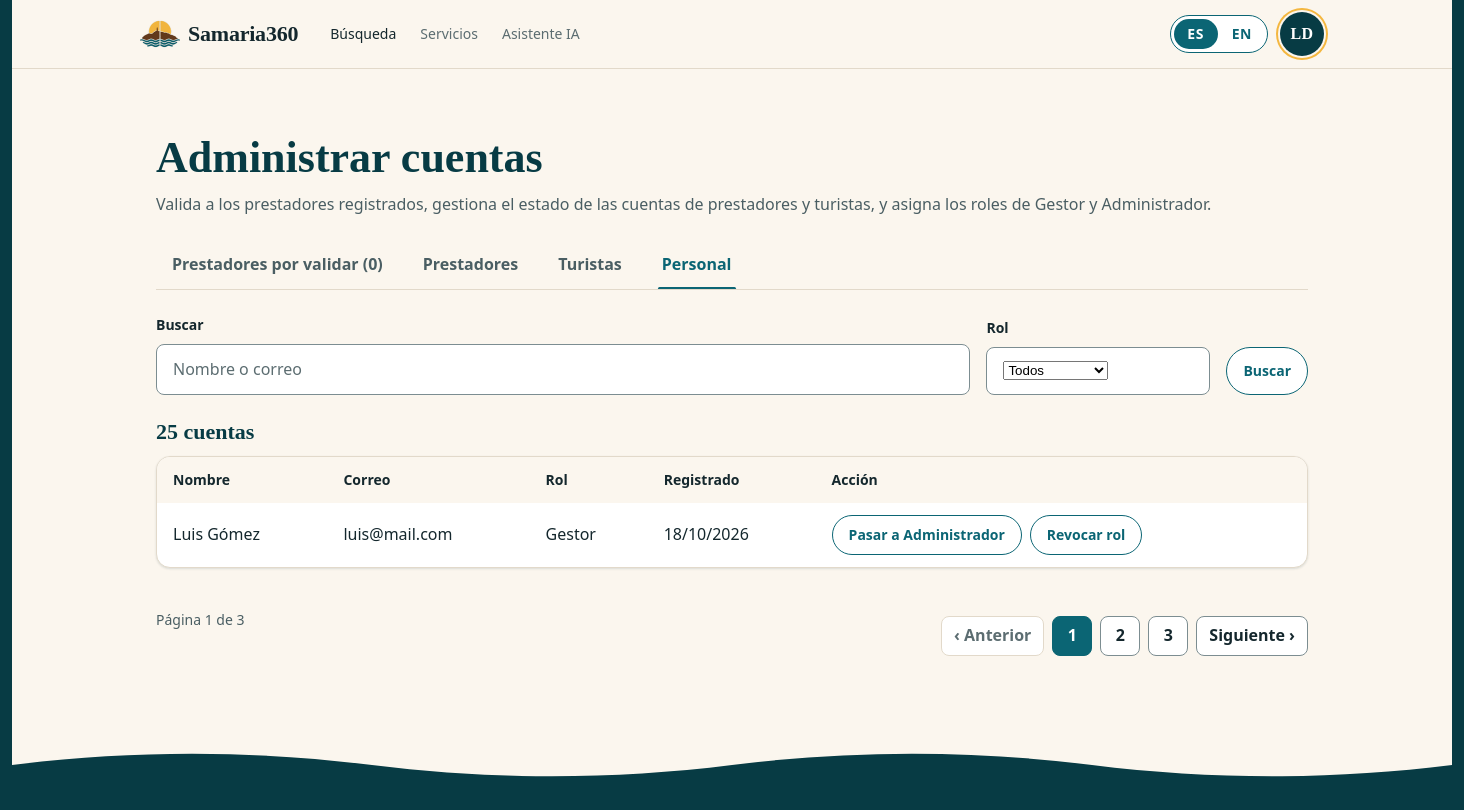
Test: «Personal»: Consultar personal (RF45, DEC-115) › páginas de 10: «Siguiente» pide pagina=1 a la API y escribe pagina=2 en la URL
Expected: the text "Página 1 de 3" is shown, left=156, top=609, right=244, bottom=630
Click the button "Siguiente ›" at (1252,636), box left=1196, top=616, right=1308, bottom=656
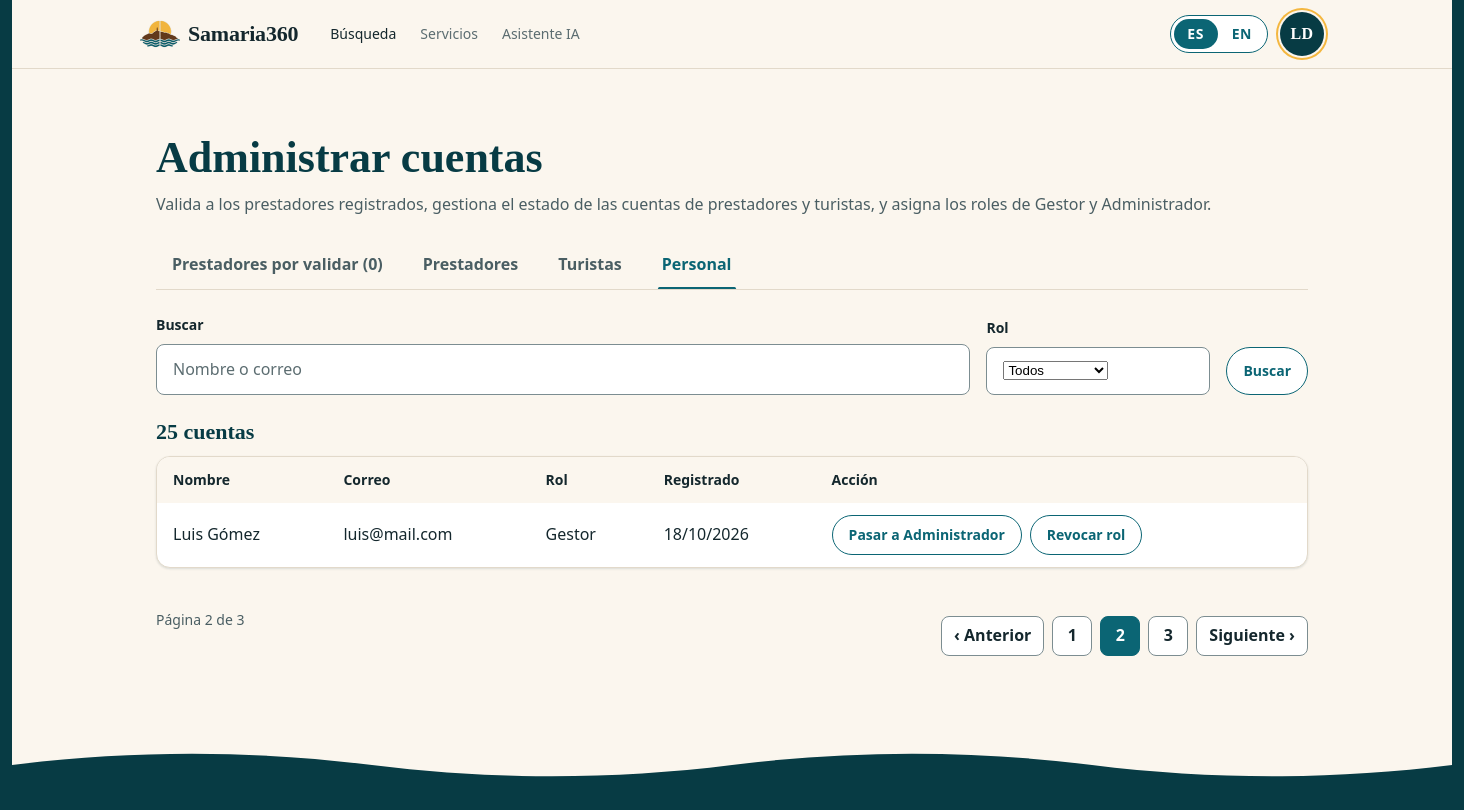
Expected: the text "Página 2 de 3" is shown, left=156, top=609, right=244, bottom=630
